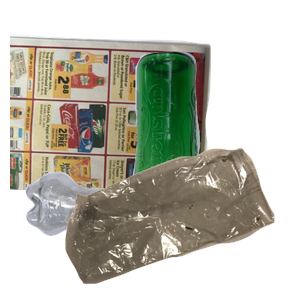glass: (129, 49, 300, 229)
paper: (10, 31, 214, 211)
plastic: (23, 169, 243, 300)
trash: (63, 145, 300, 300)
